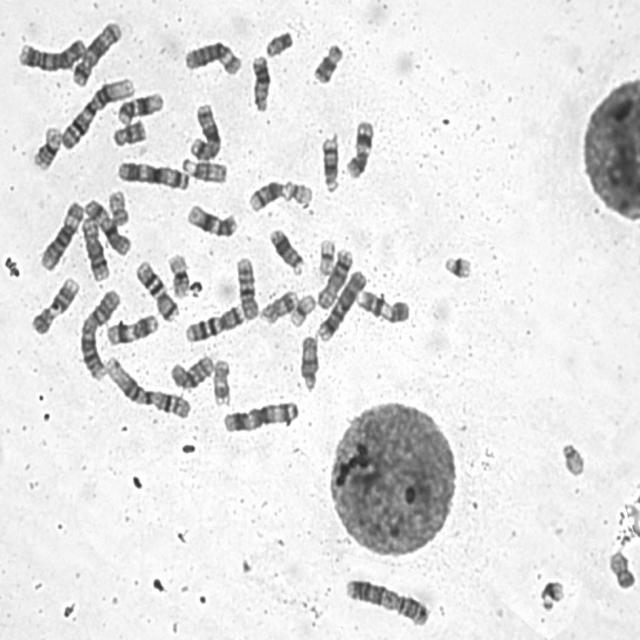A1: (57, 73, 137, 152), (101, 352, 192, 420)
A2: (342, 573, 431, 628), (76, 284, 123, 381)
A3: (219, 397, 301, 435), (114, 157, 191, 192)
B4: (314, 266, 367, 343), (14, 32, 88, 72)
B5: (70, 17, 124, 88), (186, 99, 223, 161)
C10: (167, 351, 215, 392), (233, 254, 260, 322)
C11: (342, 116, 376, 180), (102, 310, 160, 347)
C12: (184, 200, 239, 239), (114, 88, 166, 126)
C6: (38, 196, 86, 272), (181, 36, 244, 77)
C7: (132, 256, 180, 322), (182, 300, 246, 344)
C8: (314, 244, 354, 310), (78, 214, 111, 282)
C9: (28, 273, 80, 336), (354, 286, 412, 325)
D13: (267, 224, 305, 276), (248, 51, 272, 112)
D14: (245, 176, 288, 214), (318, 132, 341, 194)
D15: (179, 154, 229, 186), (297, 332, 321, 394)
E16: (29, 122, 63, 172), (164, 250, 191, 300)
E17: (256, 286, 299, 326), (210, 355, 232, 407)
E18: (310, 39, 344, 86), (108, 116, 148, 148)
F19: (286, 290, 318, 329), (314, 234, 338, 278)
F20: (604, 547, 636, 590), (105, 186, 130, 227)
G21: (536, 576, 566, 613), (440, 250, 475, 281)
G22: (558, 438, 586, 478), (281, 176, 314, 206)
X: (81, 195, 132, 258)
Y: (262, 26, 295, 59)
